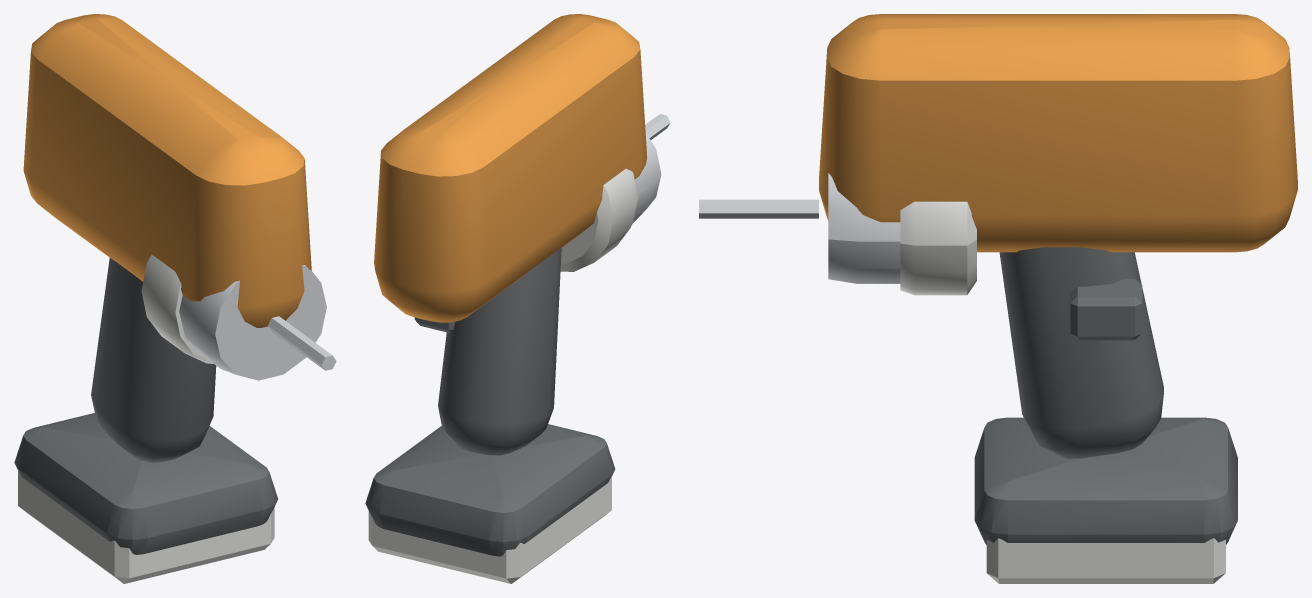
The picture shows the model from 3 angles, left to right: view 1: azimuth 30°, elevation 25°; view 2: azimuth 150°, elevation 25°; view 3: azimuth 270°, elevation 25°; orthographic projection. The views are drawn at different scales.
Visible parts, largest first — view 1: cordless-drill; view 2: cordless-drill; view 3: cordless-drill.
Part boxes in pixels (left/top/right/bottom): cordless-drill: left=14, top=14, right=336, bottom=583; cordless-drill: left=365, top=14, right=670, bottom=583; cordless-drill: left=699, top=14, right=1297, bottom=583.
Bounding box in the file's own units: 0.09 × 0.24 × 0.25.
